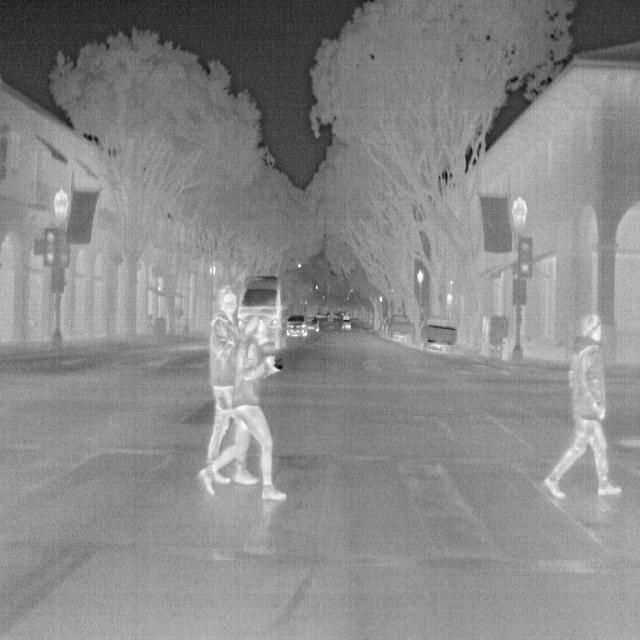Pedestrian: (196, 316, 288, 503), (540, 310, 624, 504), (207, 286, 259, 487)
Vehicle: (237, 271, 288, 350)
